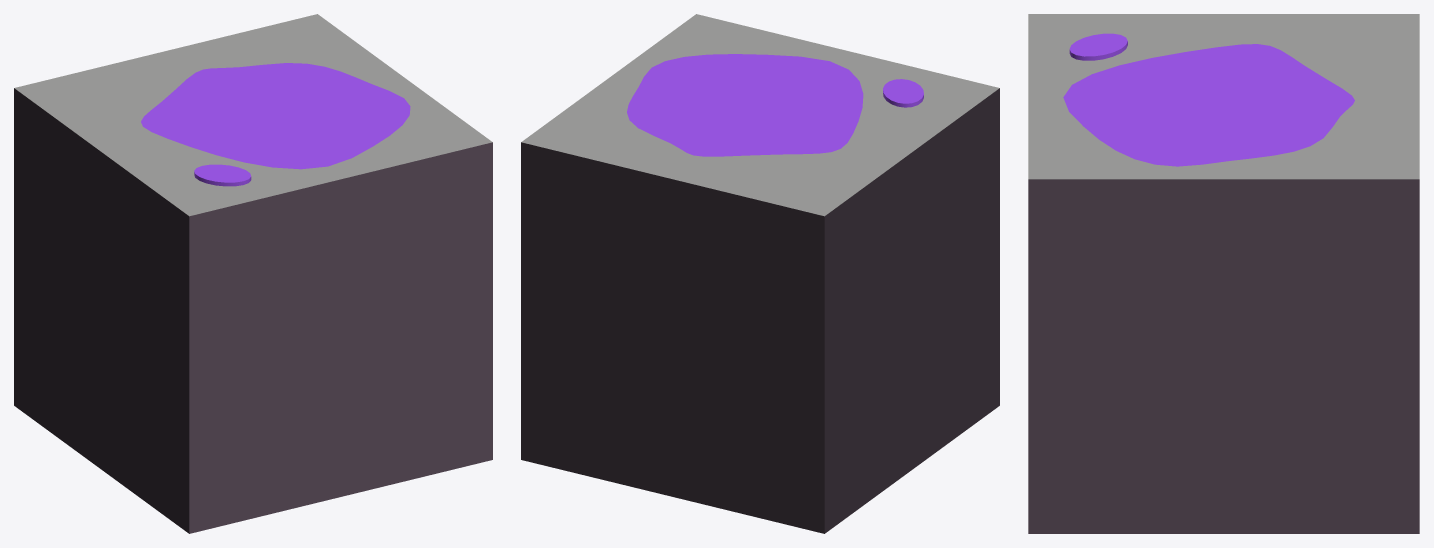
File: tile_obstacle_toxic_spill03.FBX
The picture shows the model from 3 angles, left to right: view 1: azimuth 30°, elevation 25°; view 2: azimuth 150°, elevation 25°; view 3: azimuth 270°, elevation 25°; orthographic projection. The views are drawn at different scales.
Visible parts, largest first — view 1: tile_obstacle_toxic_spill03; view 2: tile_obstacle_toxic_spill03; view 3: tile_obstacle_toxic_spill03.
Part boxes in pixels (left/top/right/bottom): tile_obstacle_toxic_spill03: left=14, top=14, right=492, bottom=533; tile_obstacle_toxic_spill03: left=521, top=14, right=999, bottom=533; tile_obstacle_toxic_spill03: left=1028, top=14, right=1419, bottom=533.
Size of the model in its own units: 39.37 by 39.85 by 39.37.
